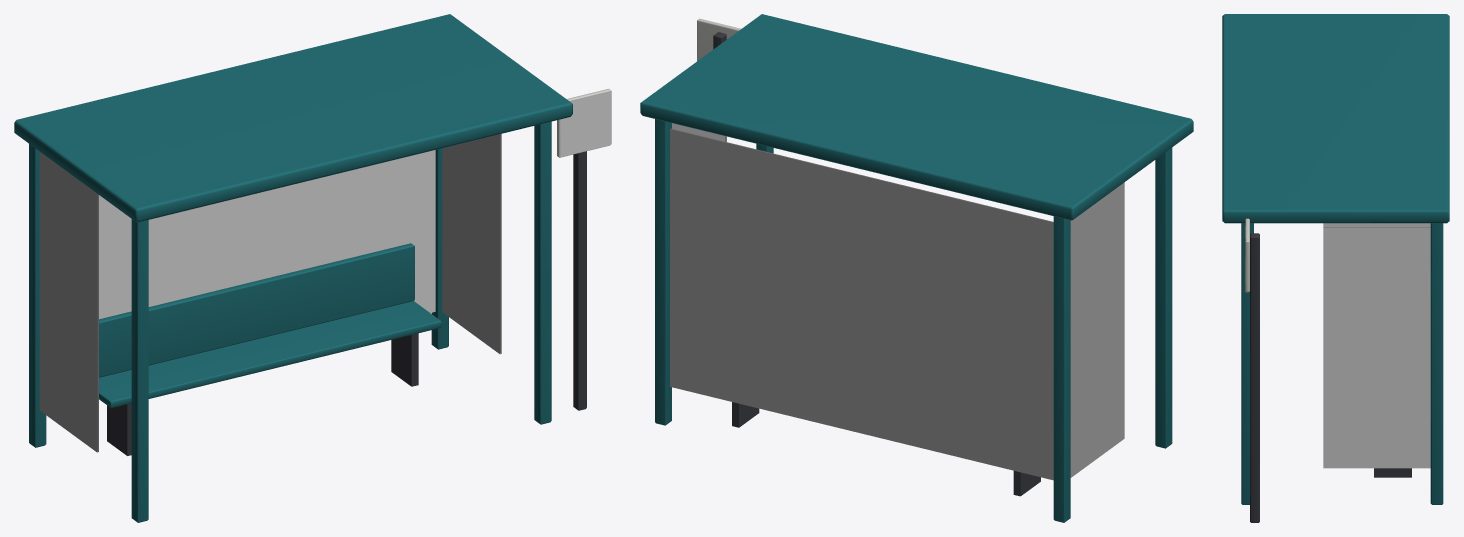
File: BusShelterFL.fbx
The picture shows the model from 3 angles, left to right: view 1: azimuth 30°, elevation 25°; view 2: azimuth 150°, elevation 25°; view 3: azimuth 270°, elevation 25°; orthographic projection. The views are drawn at different scales.
Parts seen in each view (by area): view 1: BusShelterFL; view 2: BusShelterFL; view 3: BusShelterFL.
Part boxes in pixels (x1,y1,x2,y2): BusShelterFL: (14, 14, 611, 522); BusShelterFL: (640, 14, 1193, 522); BusShelterFL: (1222, 14, 1449, 522).
Size of the model in its own units: 4.13 by 2.62 by 1.8.
